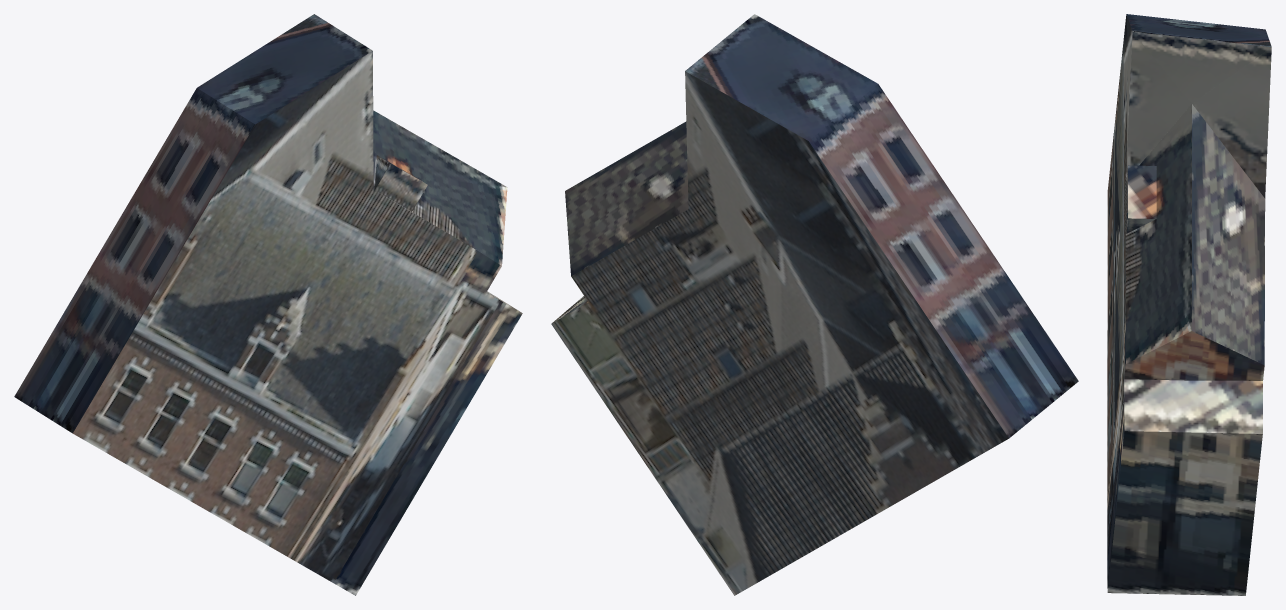
The picture shows the model from 3 angles, left to right: view 1: azimuth 30°, elevation 25°; view 2: azimuth 150°, elevation 25°; view 3: azimuth 270°, elevation 25°; orthographic projection. The views are drawn at different scales.
Visible parts, largest first — view 1: BAG_0599100000671729 (×4); view 2: BAG_0599100000671729 (×2); view 3: BAG_0599100000671729 (×4).
Part boxes in pixels (<box>): BAG_0599100000671729 (×4): <box>14,14,522,595</box>; BAG_0599100000671729 (×2): <box>551,14,1078,595</box>; BAG_0599100000671729 (×4): <box>1107,14,1271,595</box>.
Size of the model in its own units: 21.11 by 22.76 by 5.84.
Materials: 5 (5 with a texture image).
